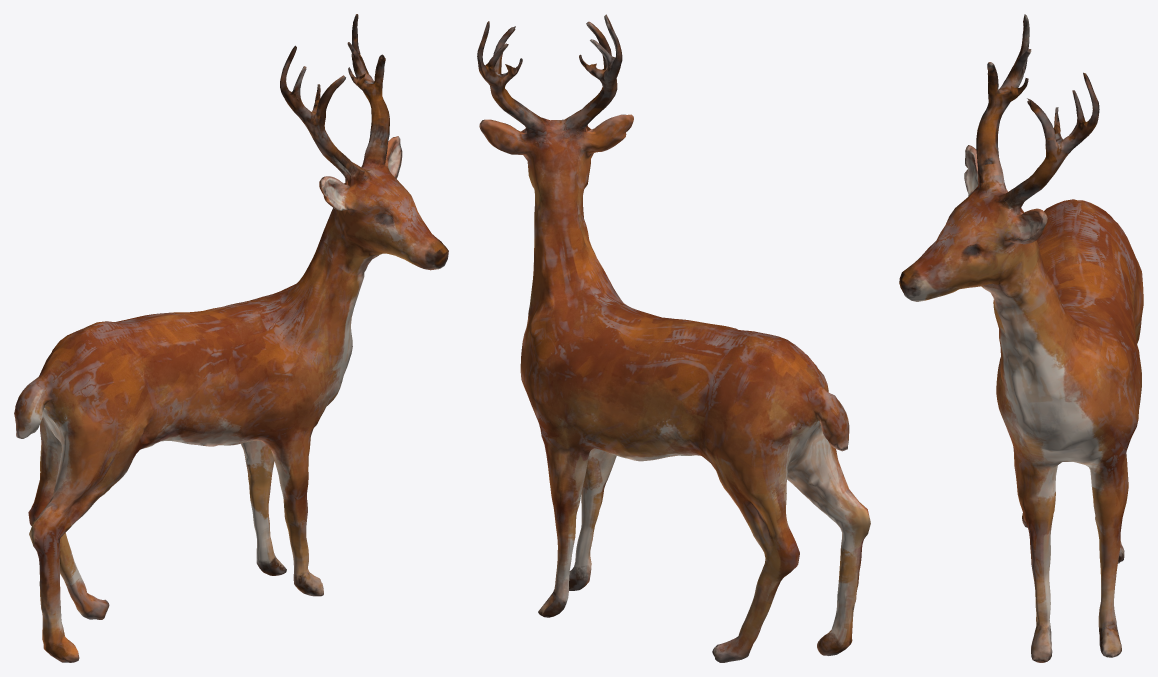
Rendered from deer.glb.
The picture shows the model from 3 angles, left to right: view 1: azimuth 30°, elevation 25°; view 2: azimuth 150°, elevation 25°; view 3: azimuth 270°, elevation 25°; orthographic projection. The views are drawn at different scales.
Parts seen in each view (by area): view 1: Deer_Low; view 2: Deer_Low; view 3: Deer_Low.
Part boxes in pixels (x1,y1,x2,y2): Deer_Low: [14, 14, 448, 662]; Deer_Low: [477, 14, 870, 662]; Deer_Low: [899, 14, 1143, 662].
Bounding box in the file's own units: 154 × 222 × 77.44.
Materials: 1 (1 with a texture image).
